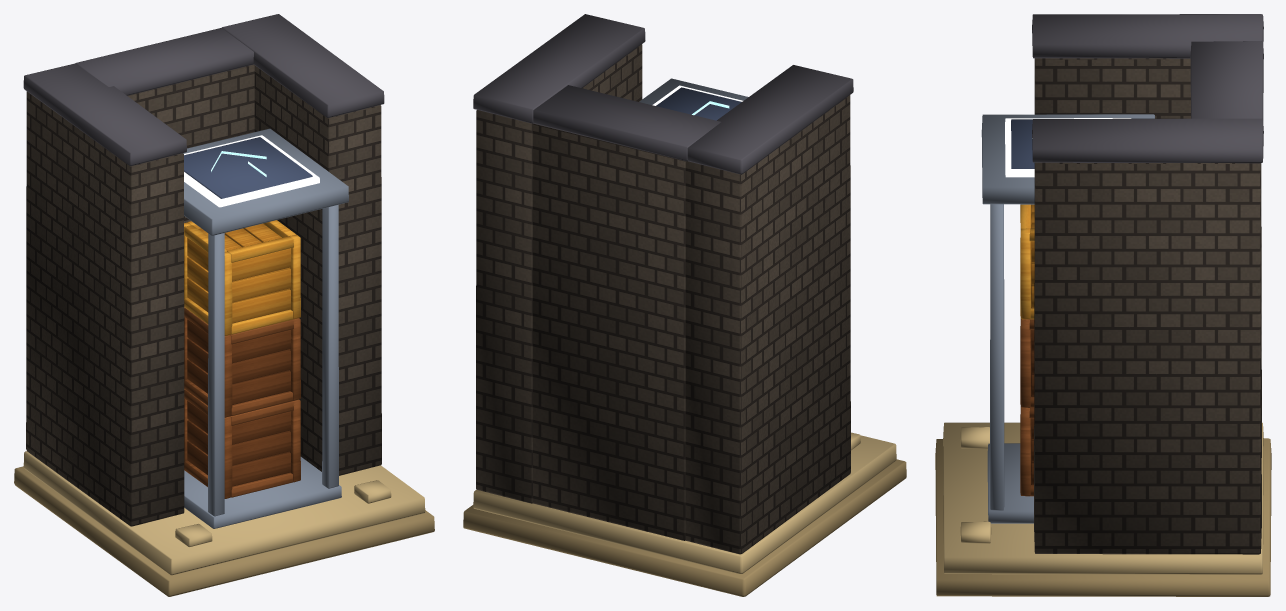
File: OBJ21_stack_tower_clean.glb
The picture shows the model from 3 angles, left to right: view 1: azimuth 30°, elevation 25°; view 2: azimuth 150°, elevation 25°; view 3: azimuth 270°, elevation 25°; orthographic projection. The views are drawn at different scales.
Visible parts, largest first — view 1: BrickWallLeft, BrickWallRight, BaseUpper, BaseLower, CopingLeft, CopingRight, CopingBack, BrickWallBack, LiftRoof, GuideColumn_-1_1, GuideColumn_1_1, ArrowPadFace (+25 smaller); view 2: BrickWallLeft, BrickWallBack, BrickWallRight, BaseLower, BaseUpper, CopingLeft, CopingRight, CopingBack, ArrowPadFace, LiftRoof; view 3: BrickWallRight, BaseUpper, CopingRight, BaseLower, CopingLeft, BrickWallLeft, CopingBack, GuideColumn_1_1, LiftRoof, LiftFloor, ArrowPadFace, CornerPost_1_13 (+5 smaller).
Part boxes in pixels (left/top/right/bottom): BrickWallLeft: left=26, top=91, right=184, bottom=526; BrickWallRight: left=254, top=65, right=381, bottom=475; BaseUpper: left=23, top=451, right=425, bottom=575; BaseLower: left=14, top=466, right=434, bottom=596; CopingLeft: left=23, top=63, right=186, bottom=165; CopingRight: left=221, top=14, right=384, bottom=117; CopingBack: left=75, top=28, right=253, bottom=95; BrickWallBack: left=127, top=64, right=254, bottom=222; LiftRoof: left=183, top=128, right=348, bottom=235; GuideColumn_-1_1: left=208, top=233, right=224, bottom=516; GuideColumn_1_1: left=322, top=205, right=338, bottom=488; ArrowPadFace: left=184, top=137, right=312, bottom=198; BrickWallLeft: left=685, top=95, right=850, bottom=554; BrickWallBack: left=532, top=123, right=685, bottom=540; BrickWallRight: left=476, top=44, right=642, bottom=503; BaseLower: left=463, top=459, right=906, bottom=596; BaseUpper: left=473, top=435, right=896, bottom=573; CopingLeft: left=687, top=65, right=853, bottom=174; CopingRight: left=473, top=14, right=645, bottom=123; CopingBack: left=533, top=85, right=720, bottom=161; ArrowPadFace: left=656, top=87, right=741, bottom=120; LiftRoof: left=639, top=78, right=748, bottom=104; BrickWallRight: left=1034, top=162, right=1261, bottom=554; BaseUpper: left=943, top=422, right=1263, bottom=574; CopingRight: left=1032, top=118, right=1263, bottom=163; BaseLower: left=935, top=438, right=1271, bottom=596; CopingLeft: left=1032, top=14, right=1263, bottom=58; BrickWallLeft: left=1034, top=58, right=1261, bottom=396; CopingBack: left=1190, top=41, right=1263, bottom=120; GuideColumn_1_1: left=990, top=204, right=1004, bottom=510; LiftRoof: left=981, top=114, right=1154, bottom=204; LiftFloor: left=987, top=443, right=1033, bottom=523; ArrowPadFace: left=1011, top=119, right=1034, bottom=168; CornerPost_1_13: left=1020, top=228, right=1030, bottom=319.
Size of the model in its own units: 1.74 by 2.55 by 1.74.
Materials: 12 (5 with a texture image).
